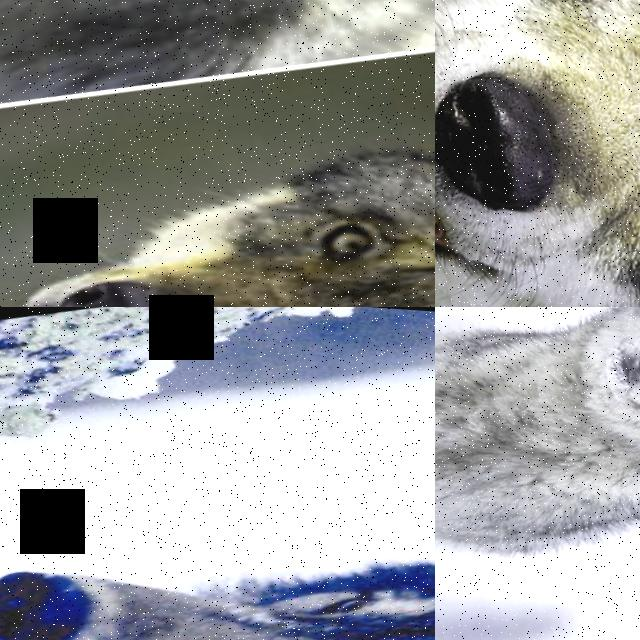wolf: (0, 321, 435, 640), (0, 56, 435, 307), (435, 307, 640, 640), (0, 0, 435, 150), (435, 0, 640, 307)
